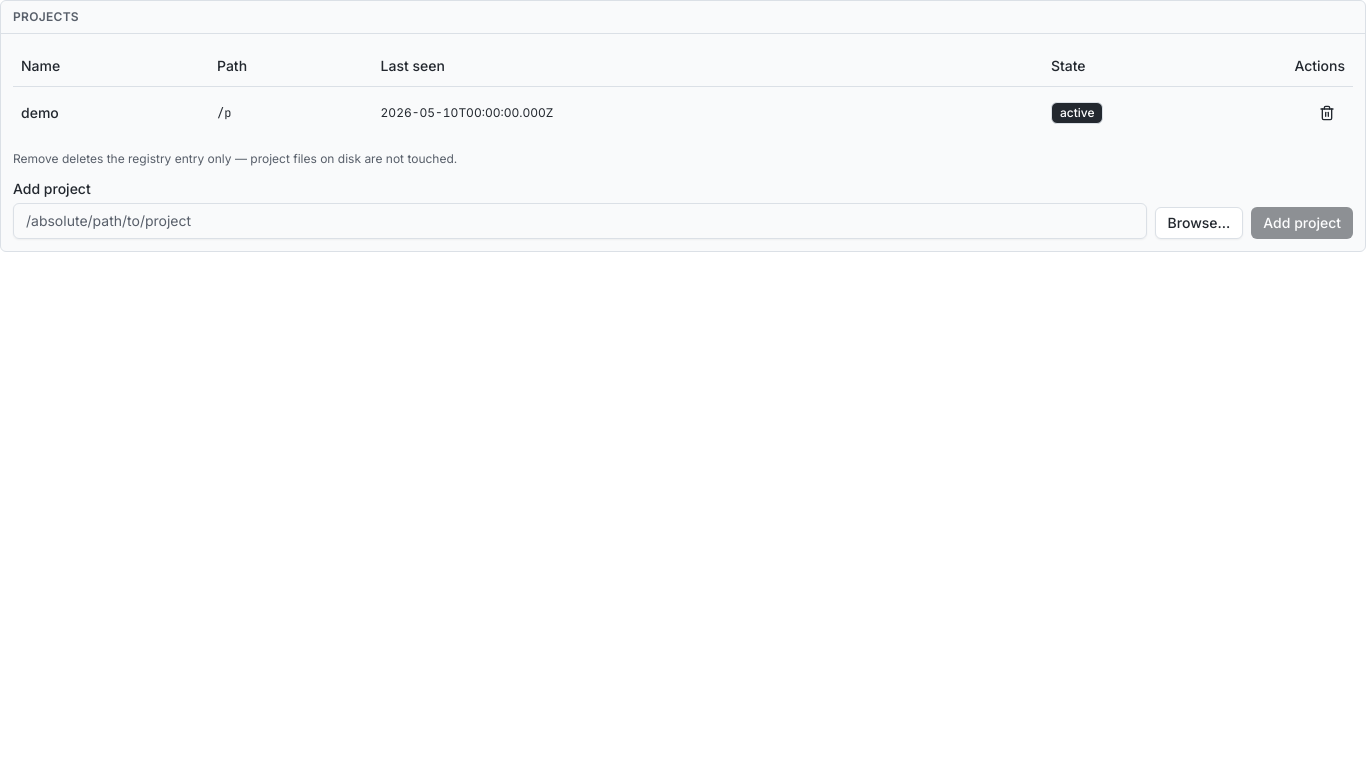
it: ProjectRegistryEditor › warns when removing the active project (server clears the active selection)
The width and height of the screenshot is (1366, 768).
Expected: the text "demo" is shown, top-left (13, 86), bottom-right (209, 138)
Click the button named "Remove project demo". click: (1327, 112)
box: top-left (1309, 94), bottom-right (1345, 130)
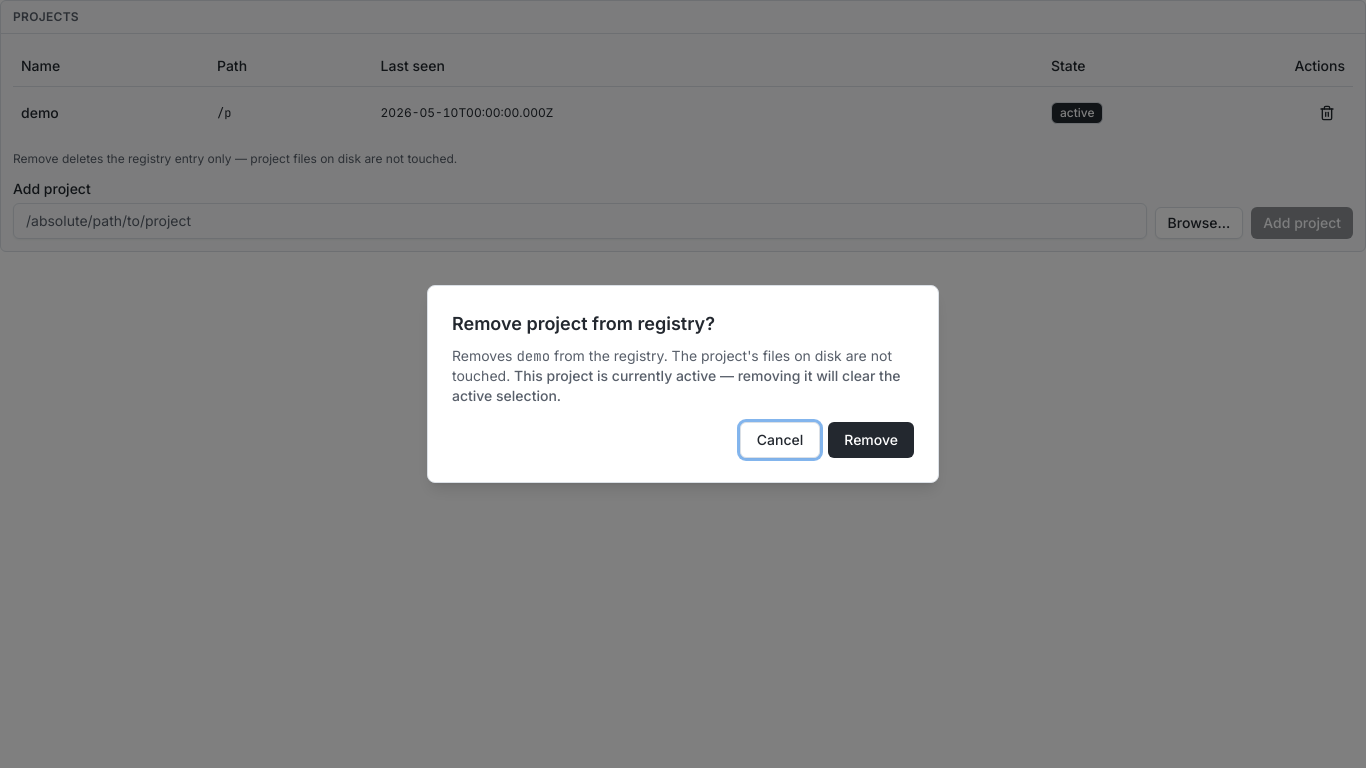
Click the button "Remove". click: (871, 440)
box: top-left (828, 422), bottom-right (914, 458)
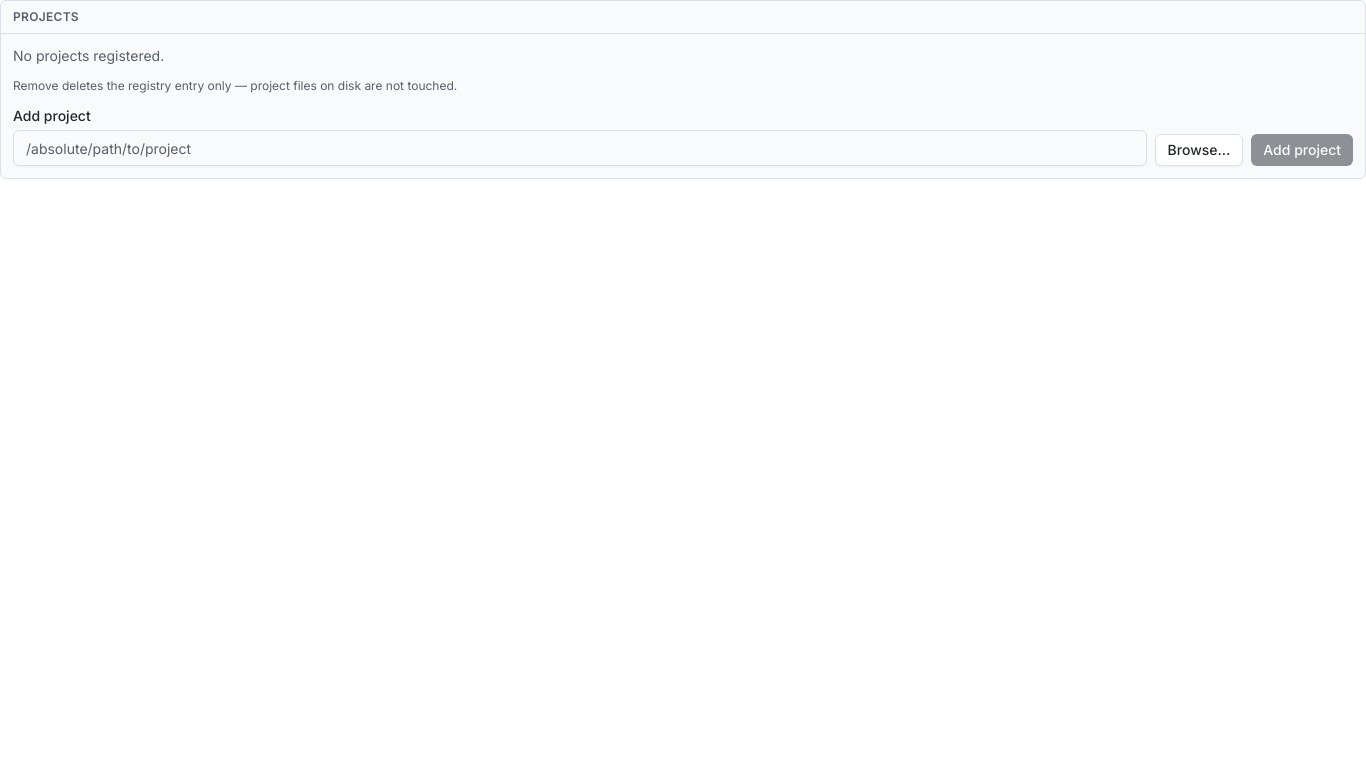
Expected: the text "demo" is gone
Expected: the text "No projects registered." is shown, top-left (13, 47), bottom-right (164, 64)
